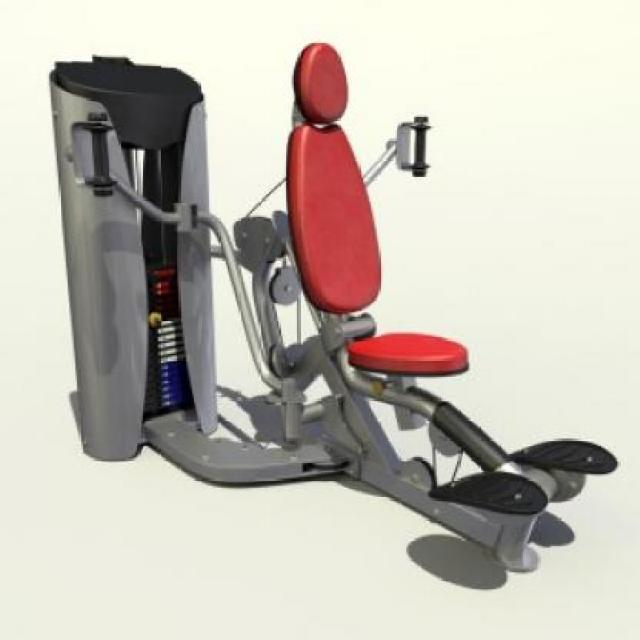chest fly machine: (40, 6, 640, 640)
